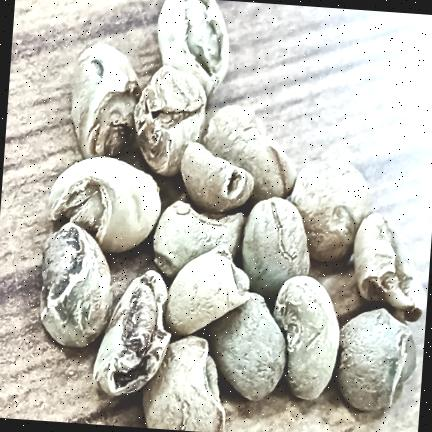broken: (49, 156, 160, 252), (93, 270, 170, 395), (203, 105, 296, 202), (40, 222, 112, 346), (207, 292, 285, 400), (336, 308, 416, 410), (273, 276, 339, 399), (353, 212, 427, 321), (70, 44, 141, 157), (134, 65, 206, 176), (142, 336, 225, 432), (291, 161, 370, 261), (165, 244, 249, 335), (153, 200, 244, 279), (241, 197, 309, 300), (157, 0, 229, 96), (180, 142, 253, 213)
